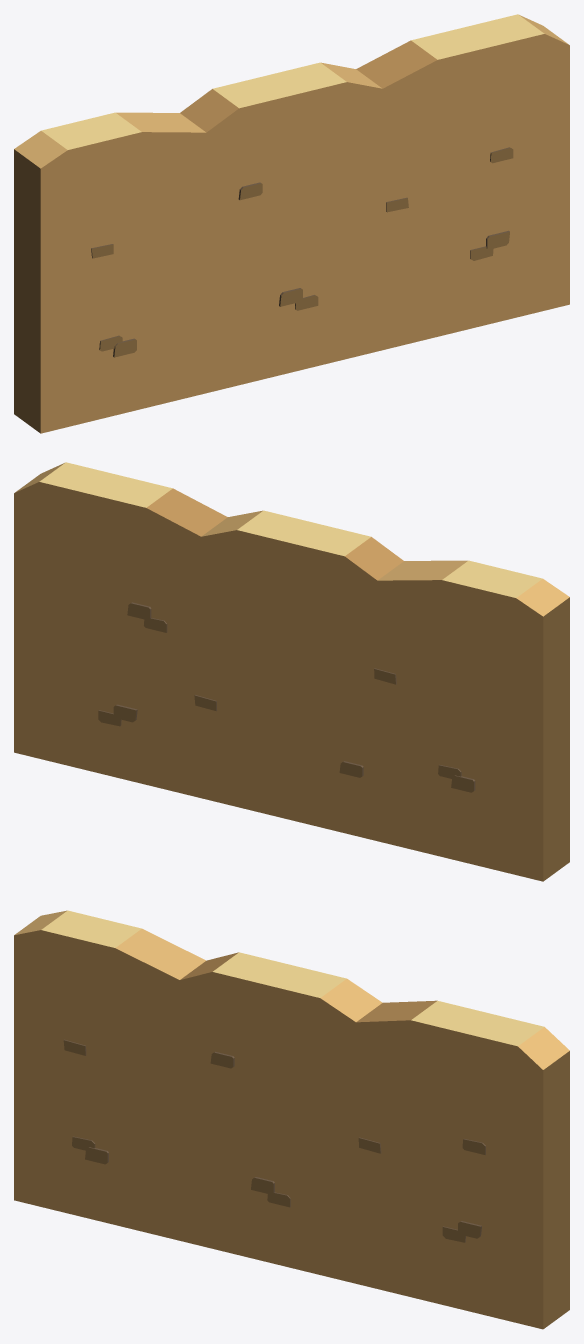
The model's file is TB_D_Bd_Wall_Plain_B_Yel.FBX.
The picture shows the model from 3 angles, top to bottom: view 1: azimuth 30°, elevation 25°; view 2: azimuth 150°, elevation 25°; view 3: azimuth 330°, elevation 25°; orthographic projection.
Visible parts, largest first — view 1: TB_D_Bd_Wall_Plain_B_Yel; view 2: TB_D_Bd_Wall_Plain_B_Yel; view 3: TB_D_Bd_Wall_Plain_B_Yel.
Boxes of the visible parts, x1,y1,x2,y2 form: TB_D_Bd_Wall_Plain_B_Yel: [14, 14, 569, 433]; TB_D_Bd_Wall_Plain_B_Yel: [14, 462, 569, 881]; TB_D_Bd_Wall_Plain_B_Yel: [14, 910, 569, 1329].
Bounding box in the file's own units: 8 × 4 × 0.7691.
